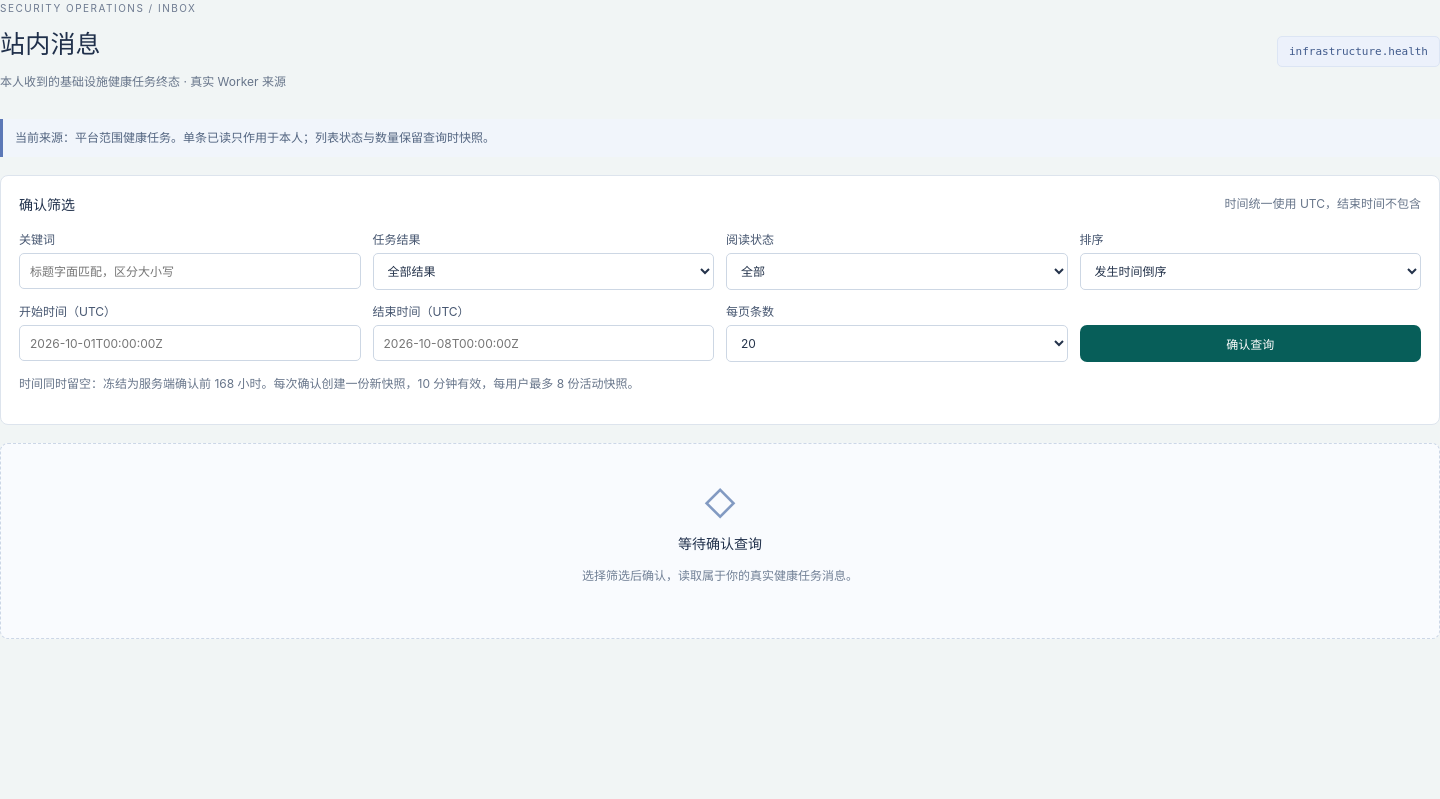
new confirmation wins over cancelled late JSON
Step 1. Click the button "确认查询" → click(1250, 344), box [1080,325,1421,362]
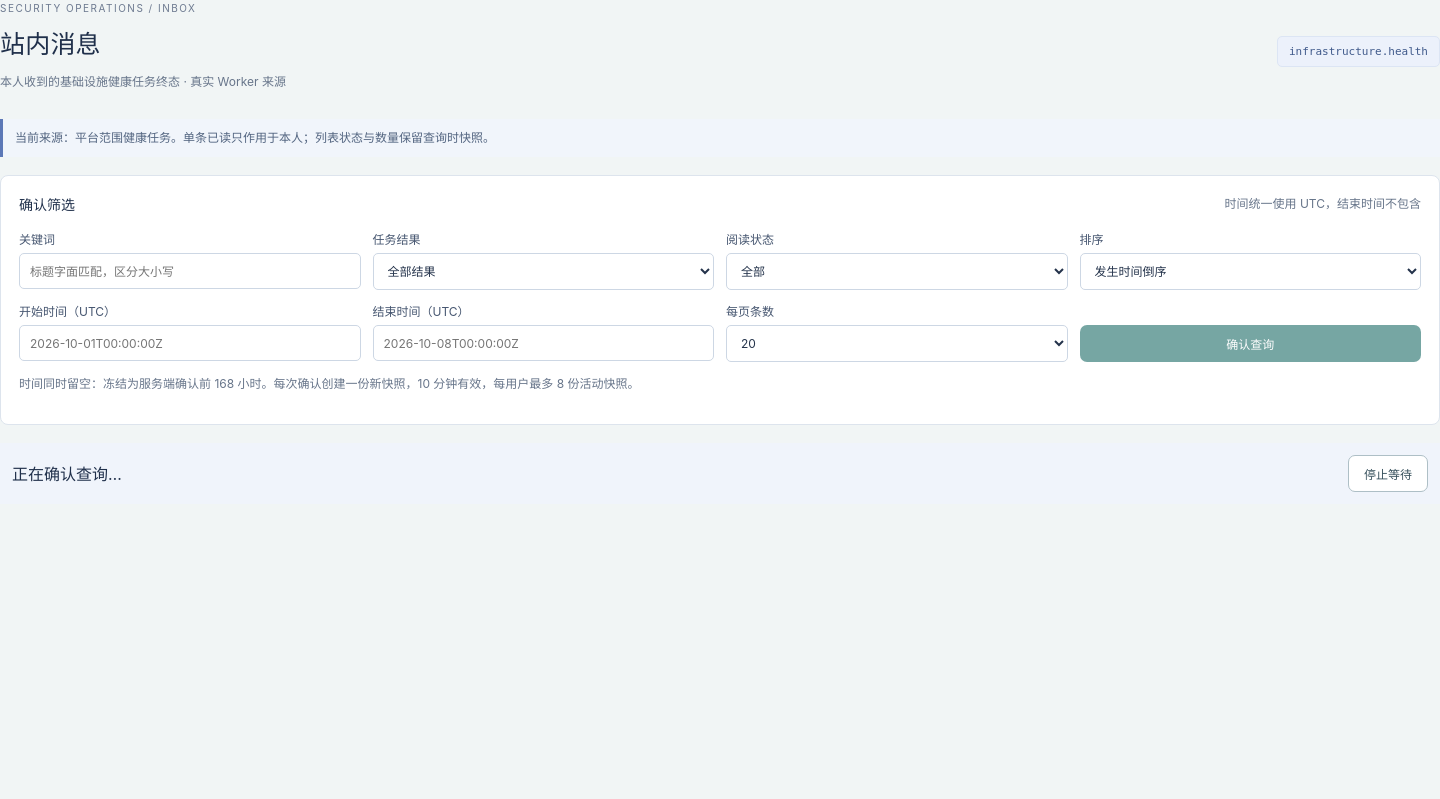
Step 2. Click the button "停止等待" → click(1388, 473), box [1348,455,1428,492]
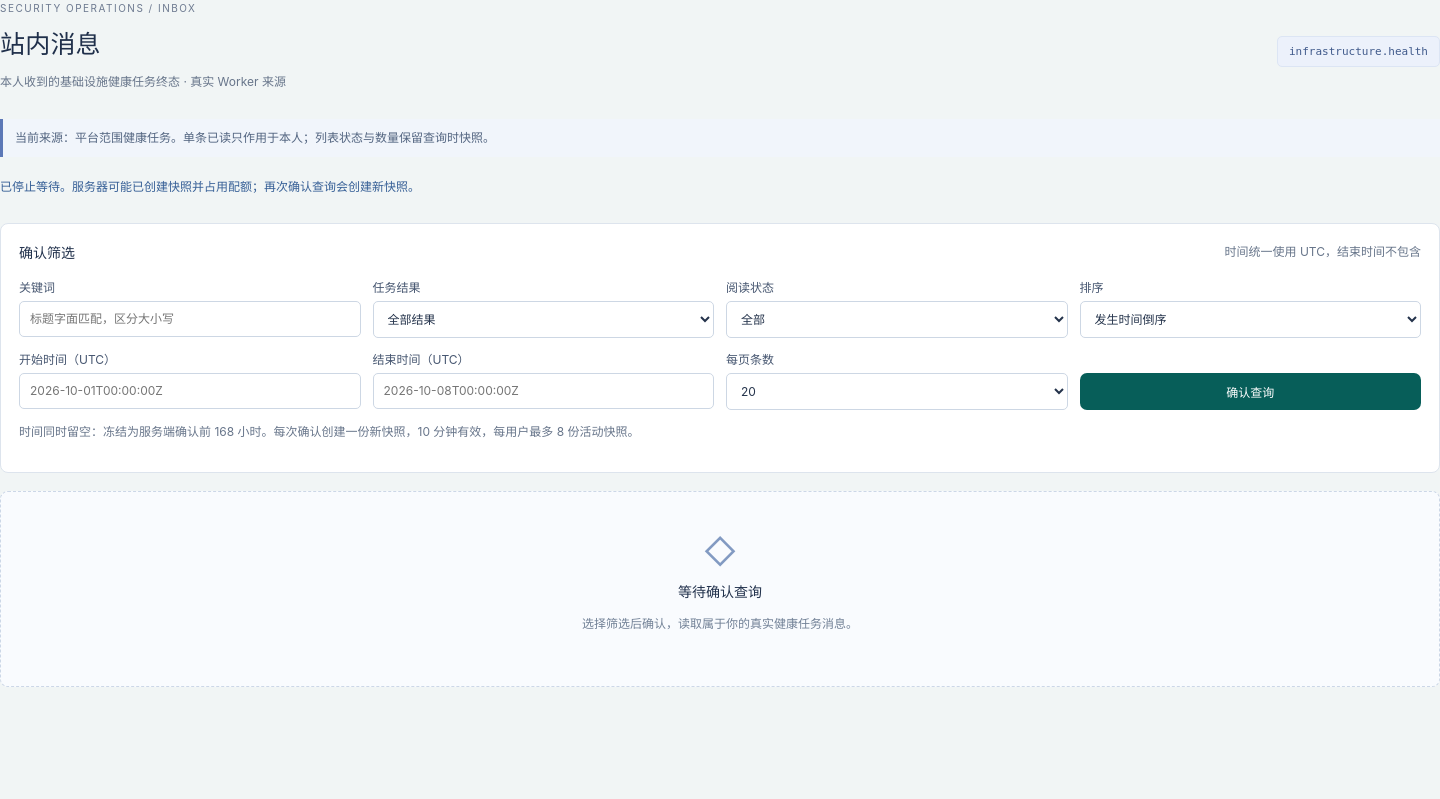
Step 3. Click the button "确认查询" → click(1250, 391), box [1080,373,1421,410]
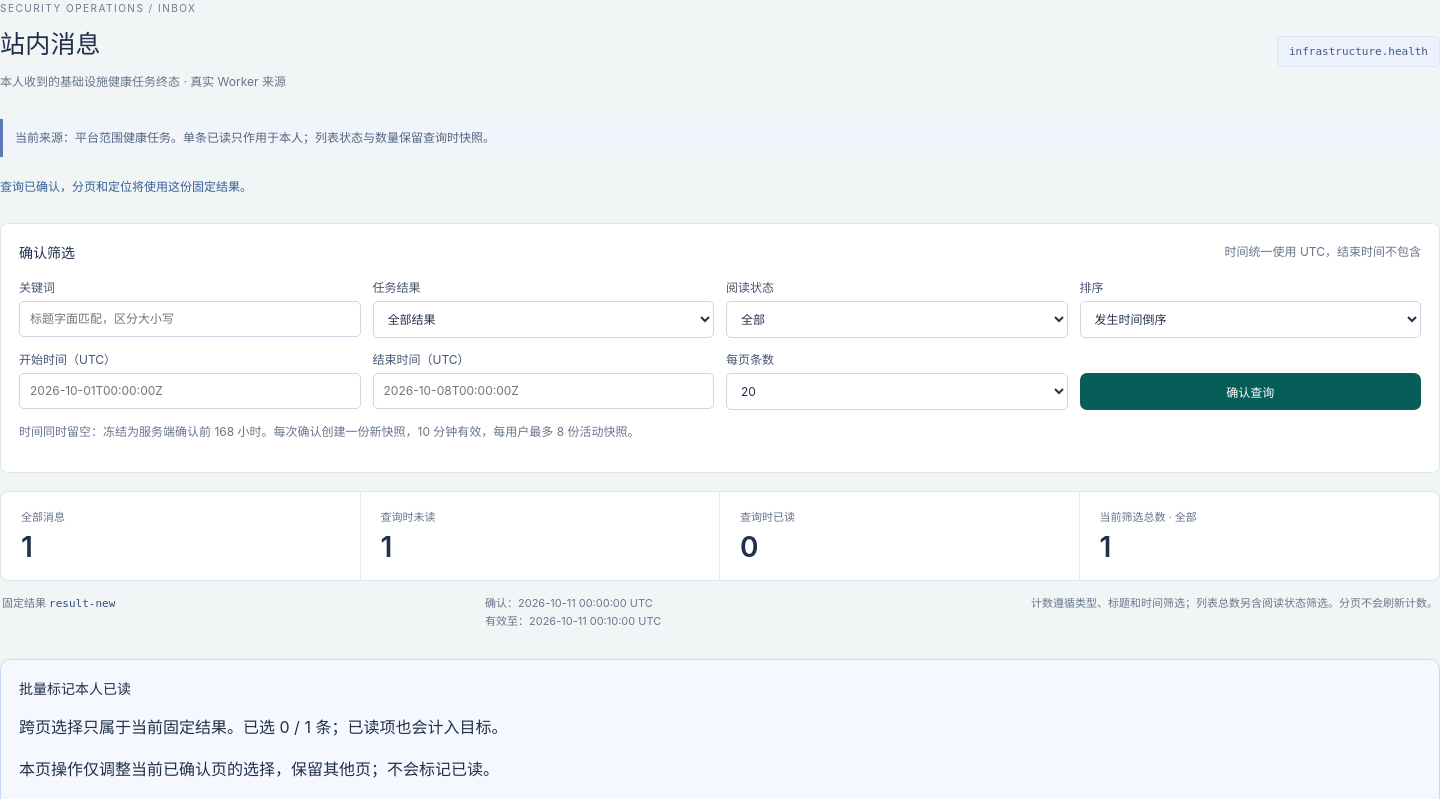
Expected: the text "result-new" is shown, [49,597,115,610]
